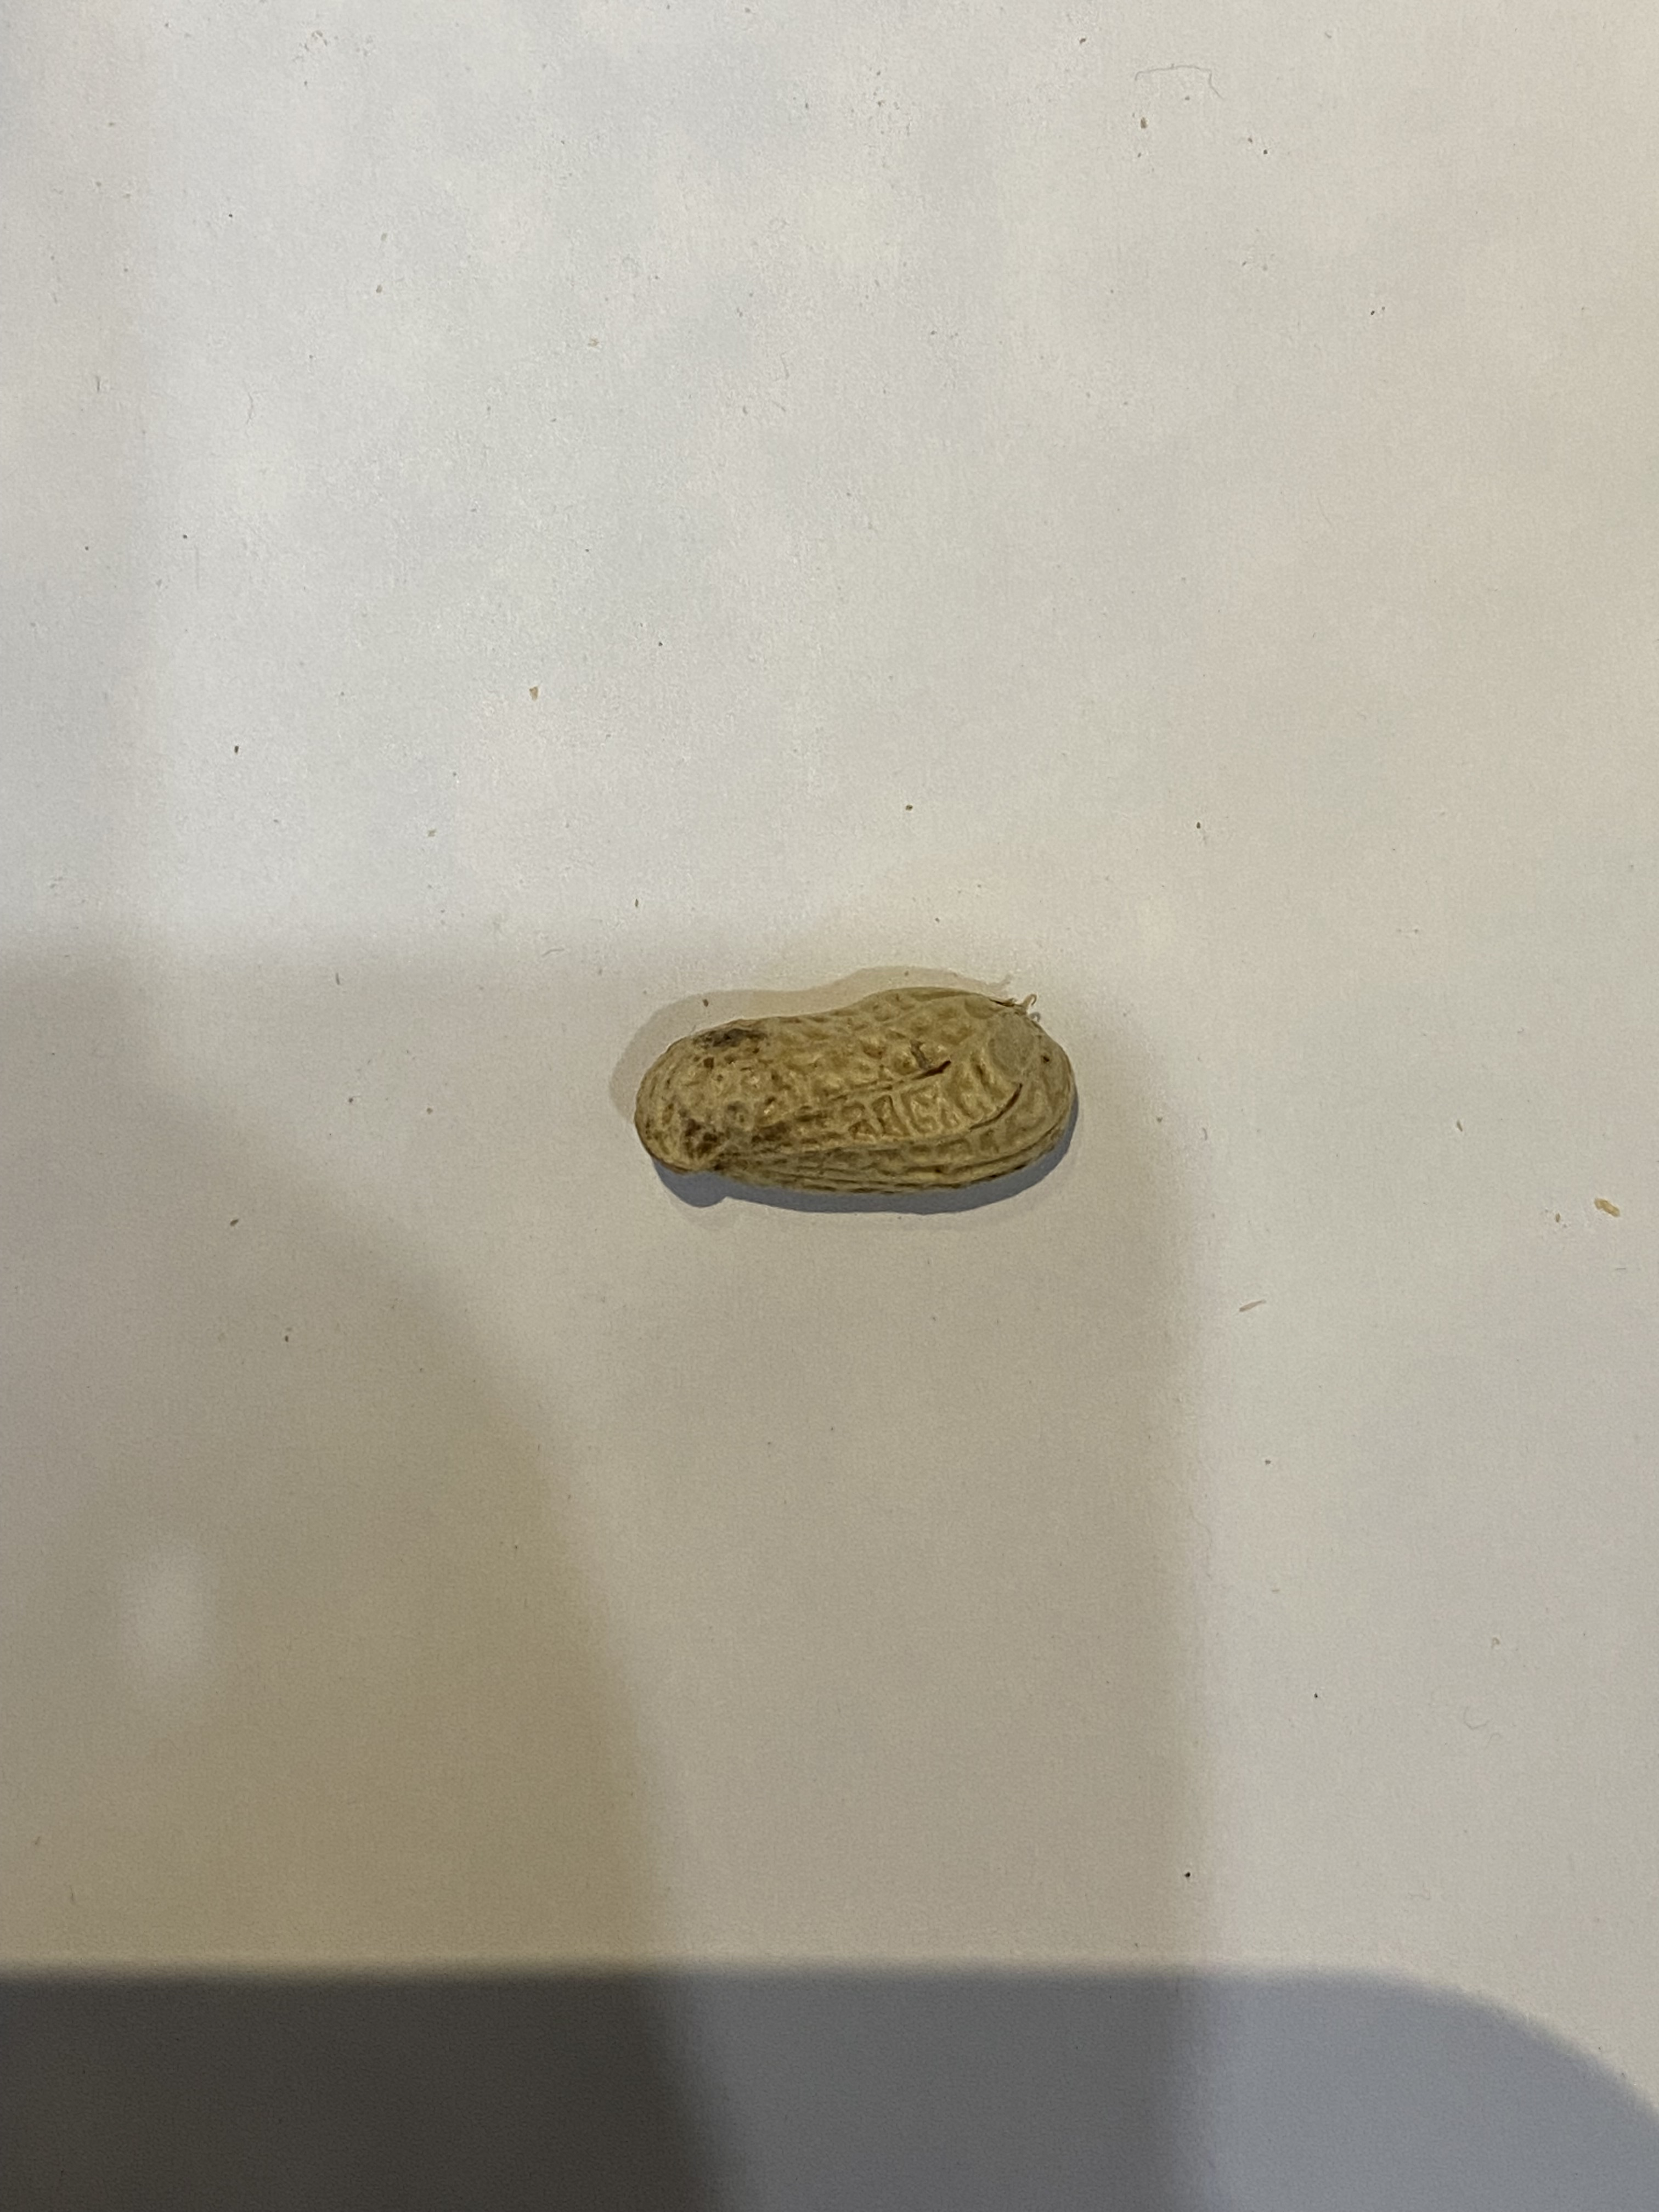kacang1: (617, 961, 1108, 1198)
